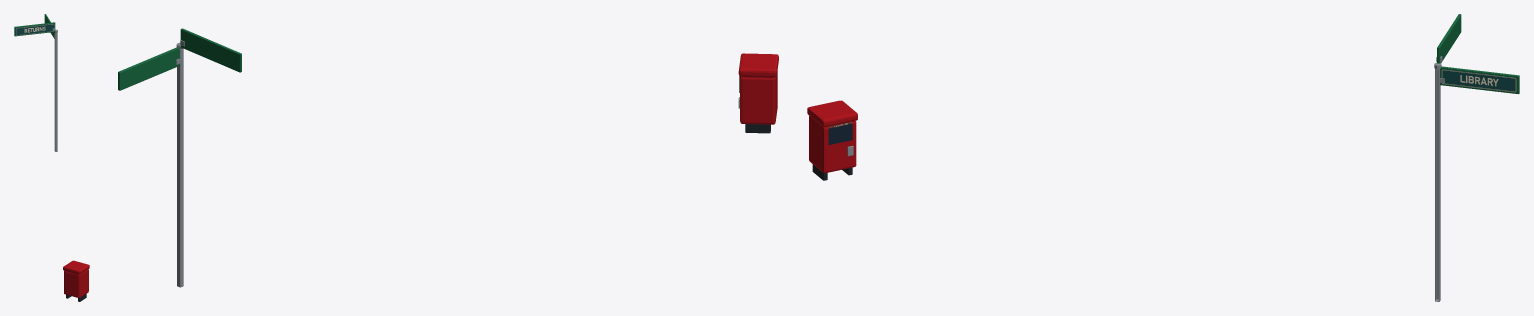
Rendered from library.glb.
3 views of the same model, side by side, from view 1: azimuth 30°, elevation 25°; view 2: azimuth 150°, elevation 25°; view 3: azimuth 270°, elevation 25° (orthographic). The views are drawn at different scales.
Visible parts, largest first — view 1: geometry_051eaf9615d12, geometry_0, geometry_3, geometry_1; view 2: geometry_051eaf9615d12, geometry_1, geometry_0; view 3: geometry_051eaf9615d12, geometry_0, geometry_2, geometry_1.
Boxes of the visible parts, box(x1,y1,x2,y2) form: geometry_051eaf9615d12: box(63, 260, 89, 297); geometry_0: box(52, 28, 57, 151); geometry_3: box(15, 23, 54, 35); geometry_1: box(14, 14, 55, 38); geometry_051eaf9615d12: box(738, 53, 778, 124); geometry_1: box(118, 28, 241, 90); geometry_0: box(175, 40, 184, 287); geometry_051eaf9615d12: box(807, 100, 857, 173); geometry_0: box(1434, 56, 1444, 301); geometry_2: box(1441, 69, 1516, 92); geometry_1: box(1437, 14, 1519, 94).
Size of the model in its own units: 4.25 by 3.37 by 8.59.
9 materials, 3 textured.
